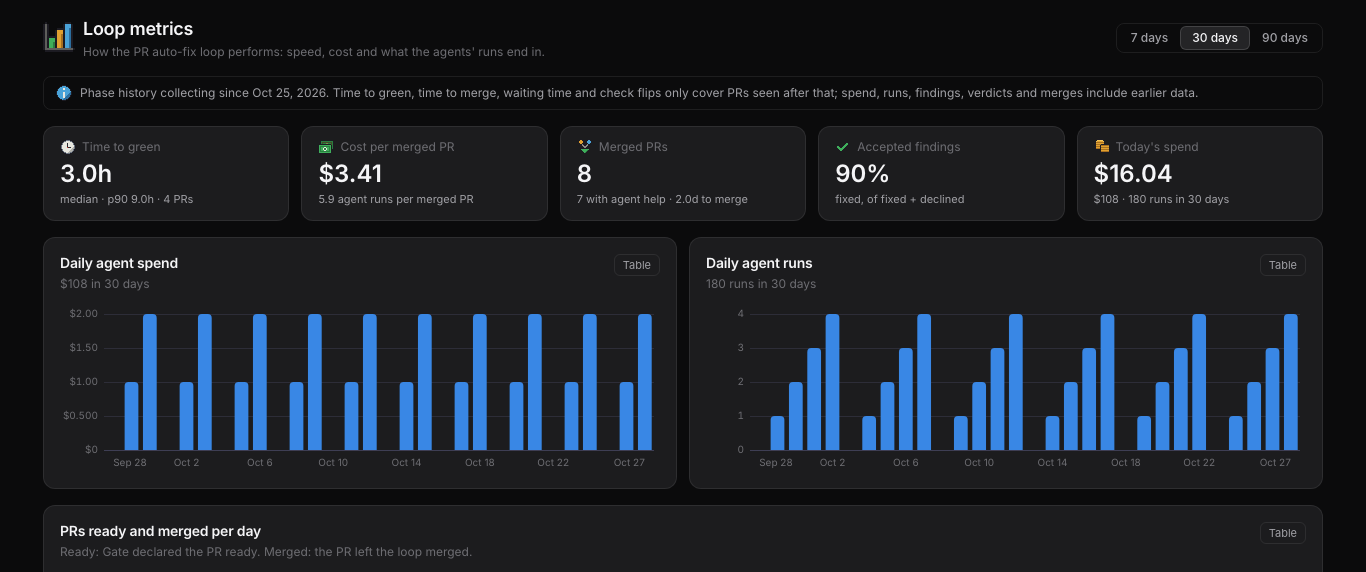
it: MetricsPage › switches the range and shows a chart's table view
This screenshot has width=1366, height=572.
Expected: the text "Time to green" is shown, [82, 139, 161, 155]
Click the radio button labelled "7 days" at point(1149, 38), box [1119, 26, 1180, 50]
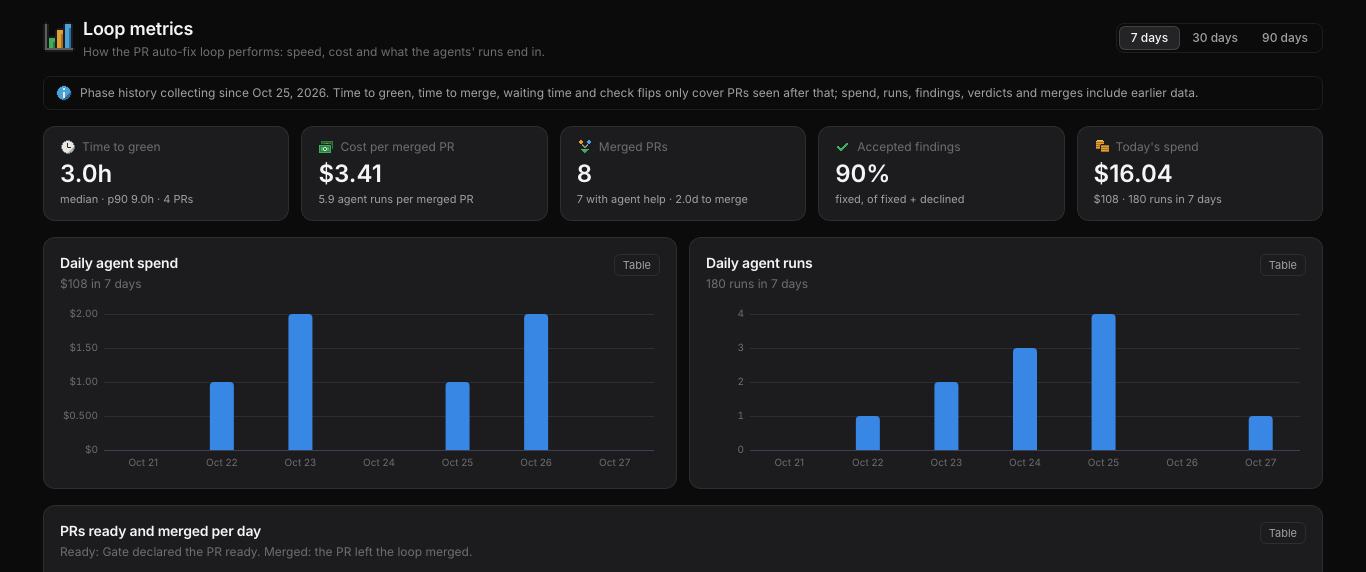
Expected: the text "$108 in 7 days" is shown, [60, 276, 142, 290]
Click the button "Table" in the row of "Daily agent spend" at point(637, 265), box [614, 254, 660, 276]
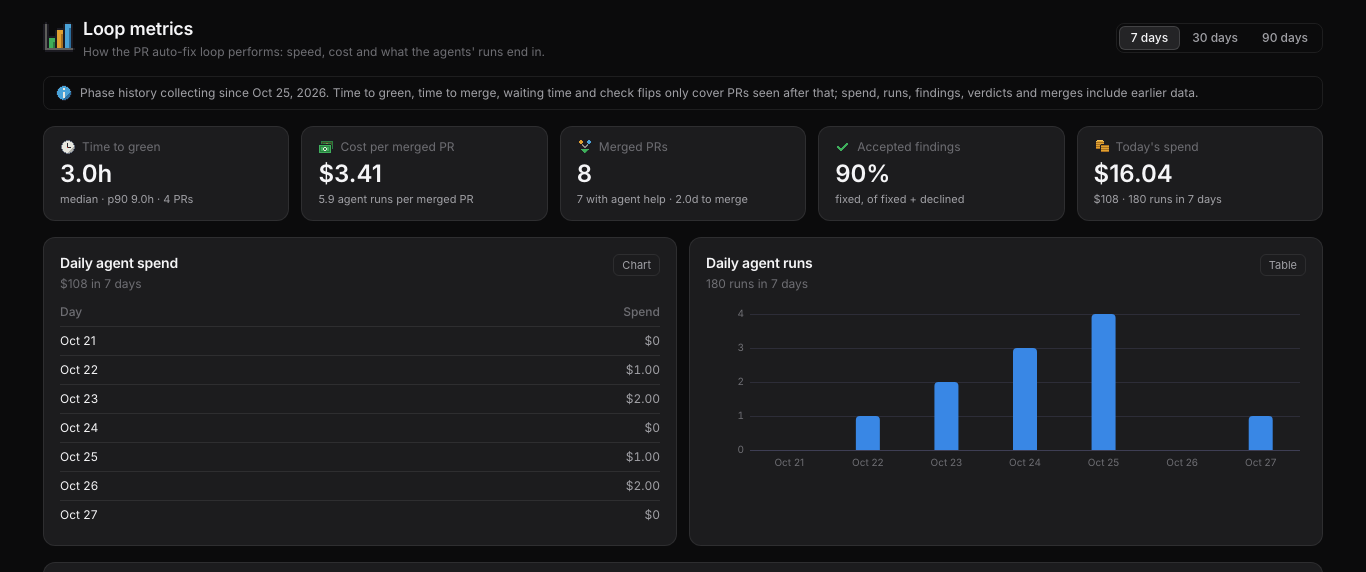
Expected: the number of rows is 8
